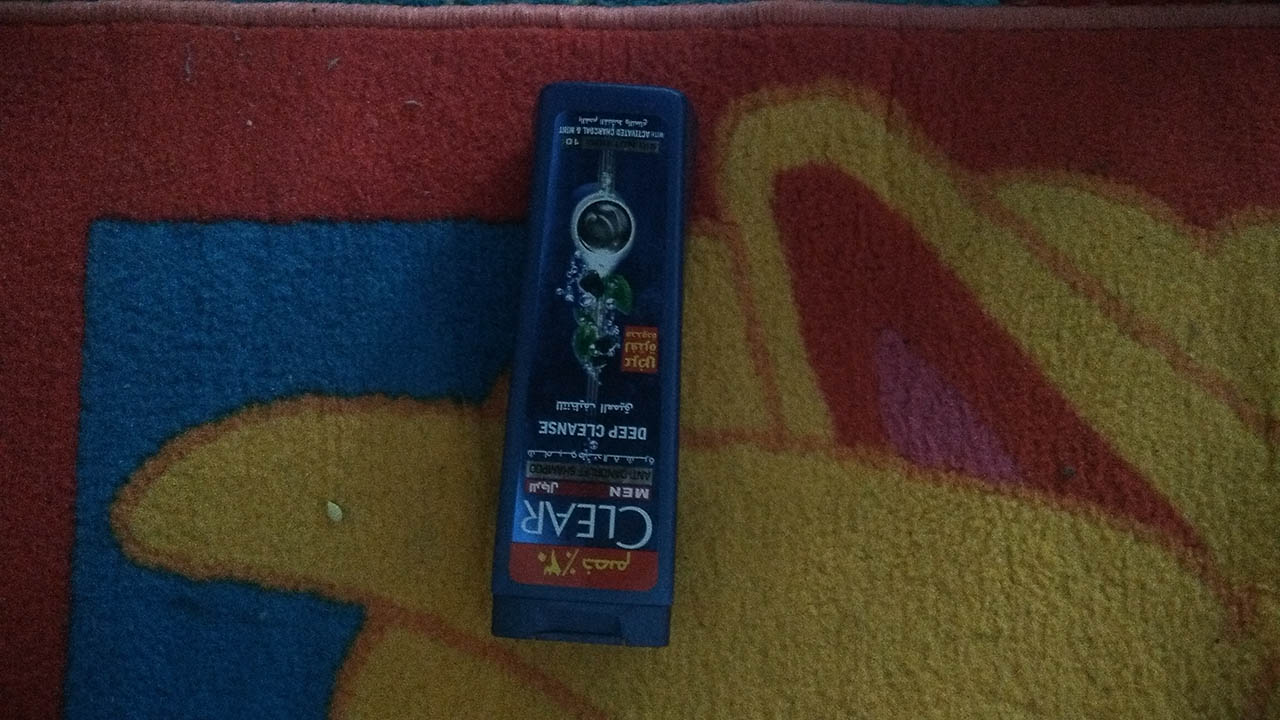Shampoo-Clear 4.7$: (493, 62, 686, 656)
